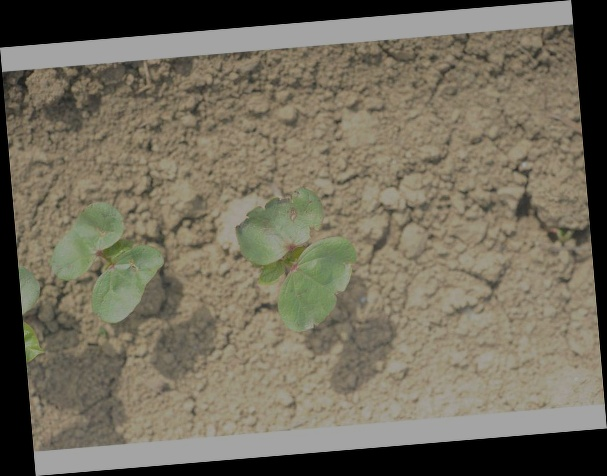cotton: (238, 186, 359, 333), (50, 200, 166, 325)
